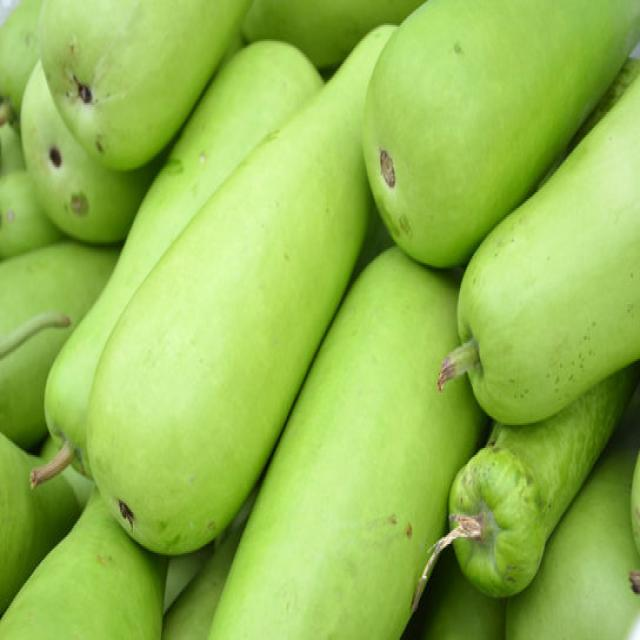Bottle Gourd: (84, 18, 402, 556), (360, 0, 639, 268)
Spinach: (0, 0, 639, 638)
